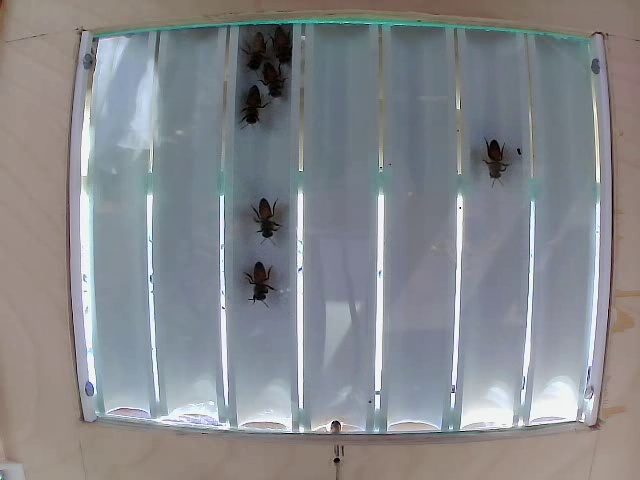bee: (225, 255, 287, 304), (256, 189, 290, 243), (241, 90, 277, 139), (263, 61, 304, 104), (485, 140, 515, 198), (270, 16, 305, 60), (239, 32, 274, 67)
